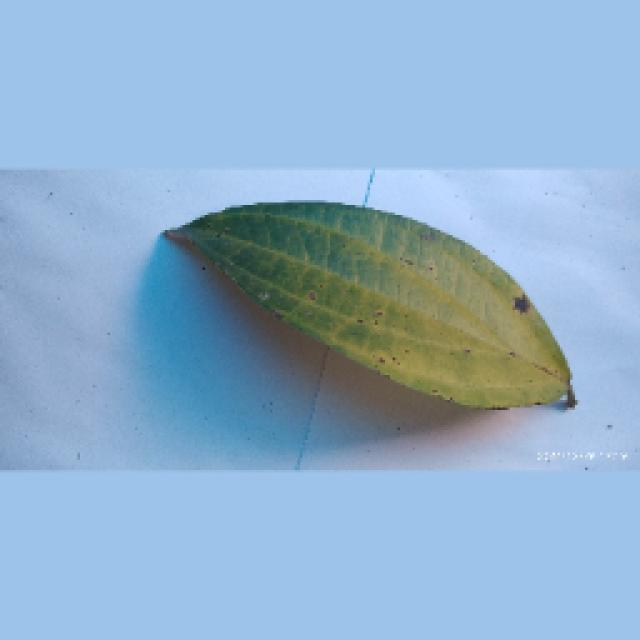slow-decline: (160, 195, 570, 407)
